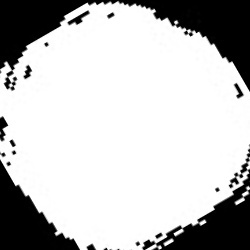spot: (0, 2, 249, 247)
